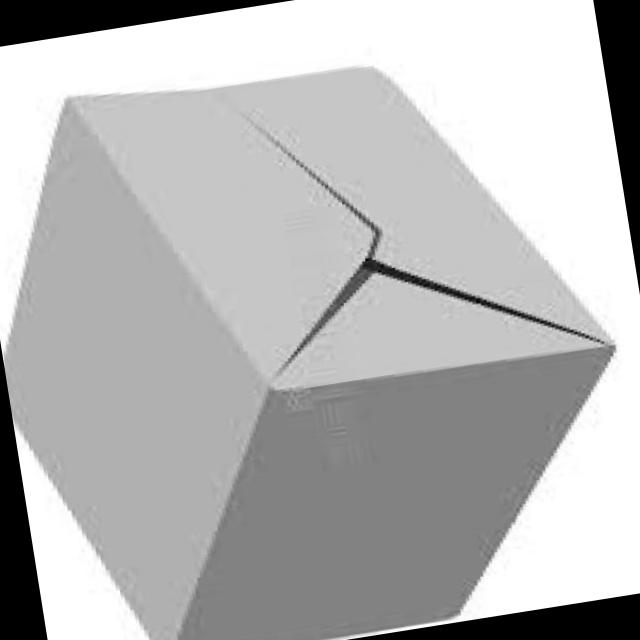cardboard paper: (2, 67, 609, 640)
